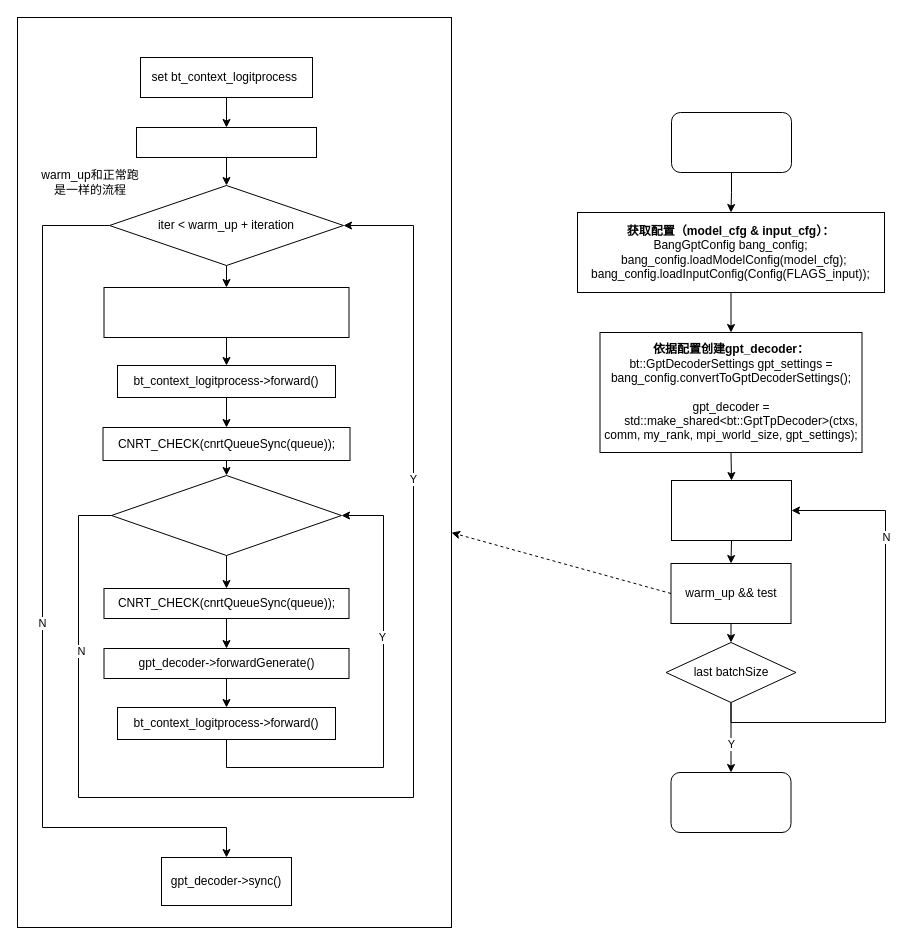
The diagram is 911 pixels wide and 945 high, and some of its shapes have lost their labels. Here are the shapes that lost their labels. From the top down, the box of each, then its label:
(136, 126, 316, 158): prepare input & output buffer
(670, 112, 792, 172): start
(103, 286, 349, 338): gpt_decoder->resetGenerateProgress() gpt_decoder->forwardContext()
(110, 474, 342, 556): loop_time < output_length
(670, 480, 792, 540): take batchSize
(670, 772, 791, 832): finish
